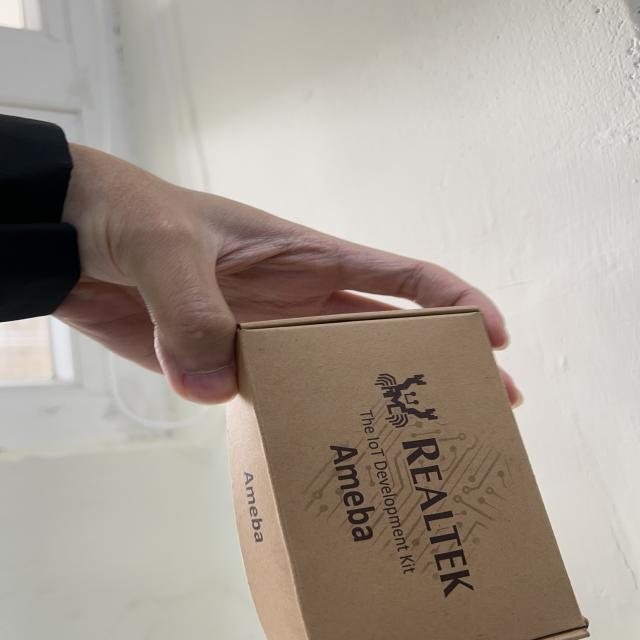box: (167, 276, 640, 640)
